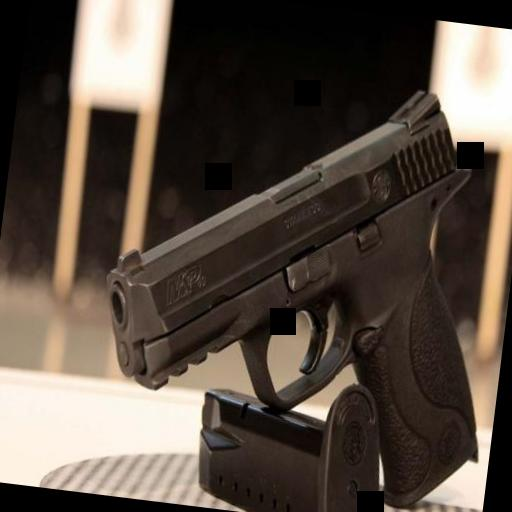Handgun: (85, 21, 512, 512)
